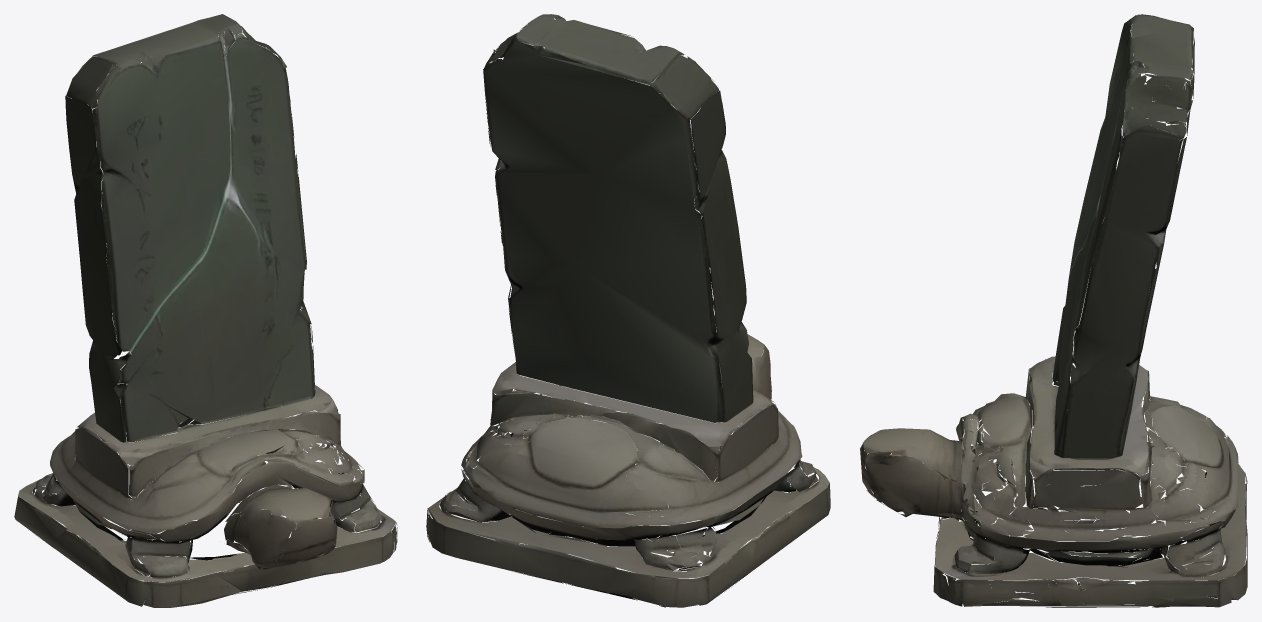
Rendered from moonStele.glb.
3 renders of one model, left to right at view 1: azimuth 30°, elevation 25°; view 2: azimuth 150°, elevation 25°; view 3: azimuth 270°, elevation 25°, orthographic. The views are drawn at different scales.
Visible parts, largest first — view 1: Prop_moonStele; view 2: Prop_moonStele; view 3: Prop_moonStele.
Part boxes in pixels (x1=…): Prop_moonStele: x1=14, y1=14, x2=397, y2=607; Prop_moonStele: x1=426, y1=14, x2=830, y2=607; Prop_moonStele: x1=860, y1=14, x2=1247, y2=607.
Size of the model in its own units: 1.84 by 3.2 by 2.25.
Materials: 1 (1 with a texture image).
